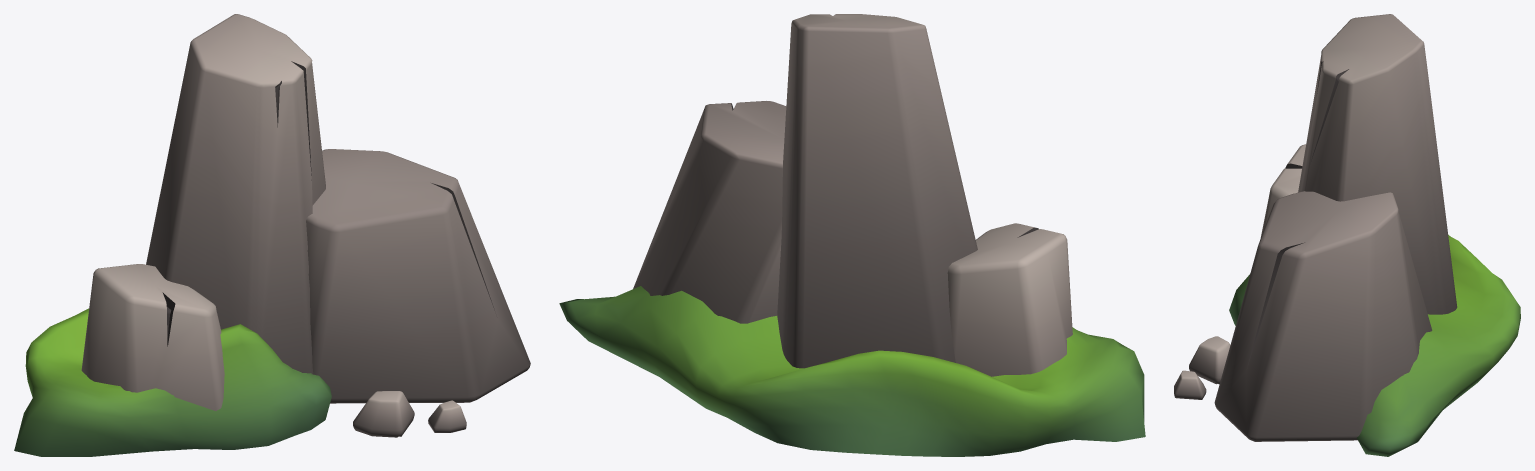
Rendered from Rock_Mossy_01.fbx.
The picture shows the model from 3 angles, left to right: view 1: azimuth 30°, elevation 25°; view 2: azimuth 150°, elevation 25°; view 3: azimuth 270°, elevation 25°; orthographic projection. The views are drawn at different scales.
Visible parts, largest first — view 1: Rock_Mossy_01; view 2: Rock_Mossy_01; view 3: Rock_Mossy_01.
Part boxes in pixels (<box>): Rock_Mossy_01: <box>14,14,530,456</box>; Rock_Mossy_01: <box>559,14,1145,456</box>; Rock_Mossy_01: <box>1174,14,1520,456</box>.
Size of the model in its own units: 509 by 326 by 327.
